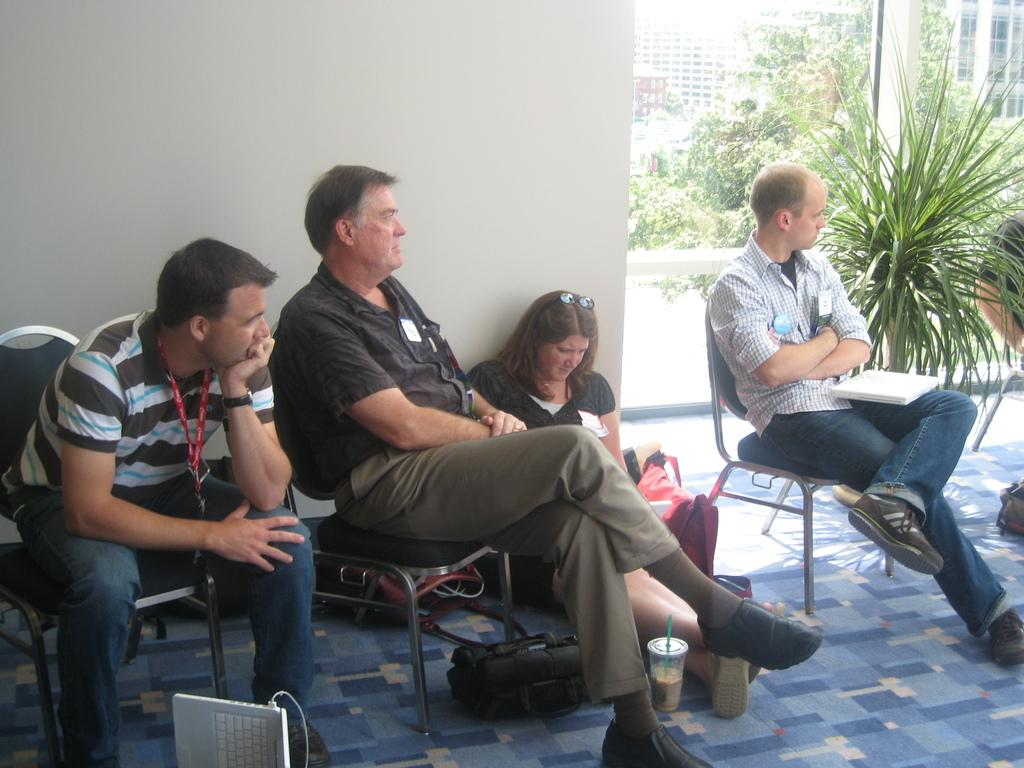Chair: (0, 321, 227, 767), (278, 475, 518, 740), (702, 296, 900, 605), (973, 207, 1023, 458)
